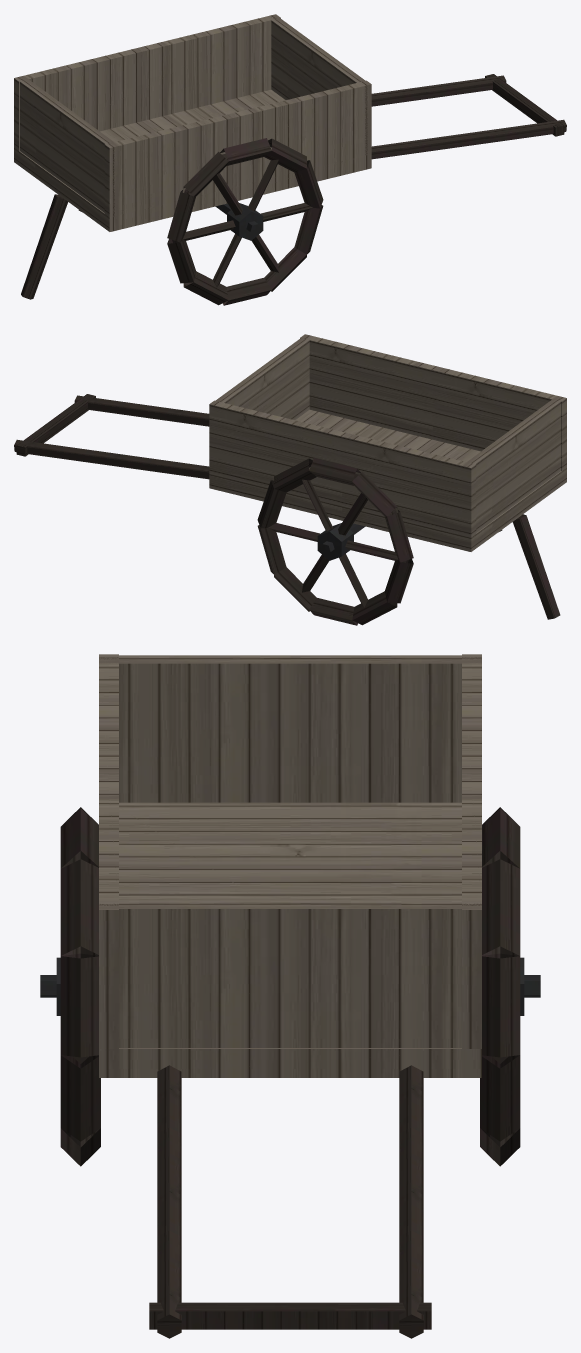
File: handcart_01.glb
3 views of the same model, one above another, from view 1: azimuth 30°, elevation 25°; view 2: azimuth 150°, elevation 25°; view 3: azimuth 270°, elevation 25° (orthographic). The views are drawn at different scales.
Parts seen in each view (by area): view 1: handcart_01; view 2: handcart_01; view 3: handcart_01.
Boxes of the visible parts, x1,y1,x2,y2 form: handcart_01: (14,14,566,305); handcart_01: (14,334,566,625); handcart_01: (40,654,540,1338).
Size of the model in its own units: 2.93 by 0.9905 by 1.24.
Materials: 3 (3 with a texture image).
